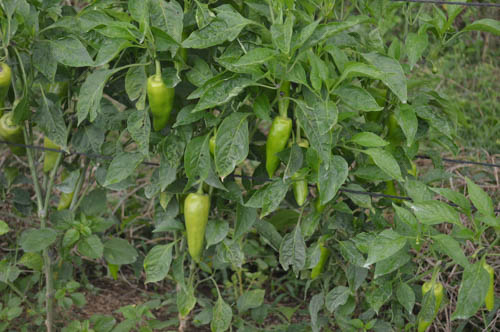ChiliPepper: (177, 186, 220, 267), (261, 110, 298, 193), (142, 68, 177, 139), (414, 281, 451, 332), (1, 112, 27, 160), (479, 262, 499, 324), (307, 236, 333, 280), (37, 133, 61, 174), (52, 190, 84, 216), (1, 63, 14, 109)
